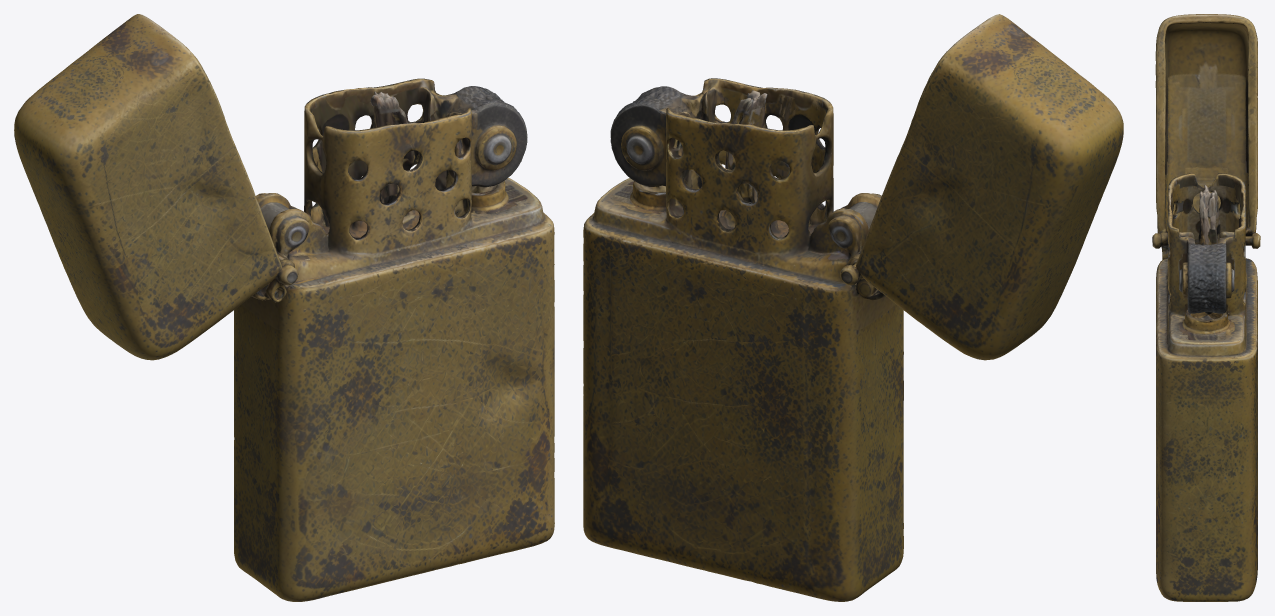
The model's file is Lighter.fbx.
3 renders of one model, left to right at view 1: azimuth 30°, elevation 25°; view 2: azimuth 150°, elevation 25°; view 3: azimuth 270°, elevation 25°, orthographic. The views are drawn at different scales.
Visible parts, largest first — view 1: texture_mapping; view 2: texture_mapping; view 3: texture_mapping.
Boxes of the visible parts, x1,y1,x2,y2 form: texture_mapping: (14,14,554,601); texture_mapping: (583,14,1123,601); texture_mapping: (1152,14,1260,601).
Bounding box in the file's own units: 0.902 × 0.2182 × 1.
1 material, 1 textured.
